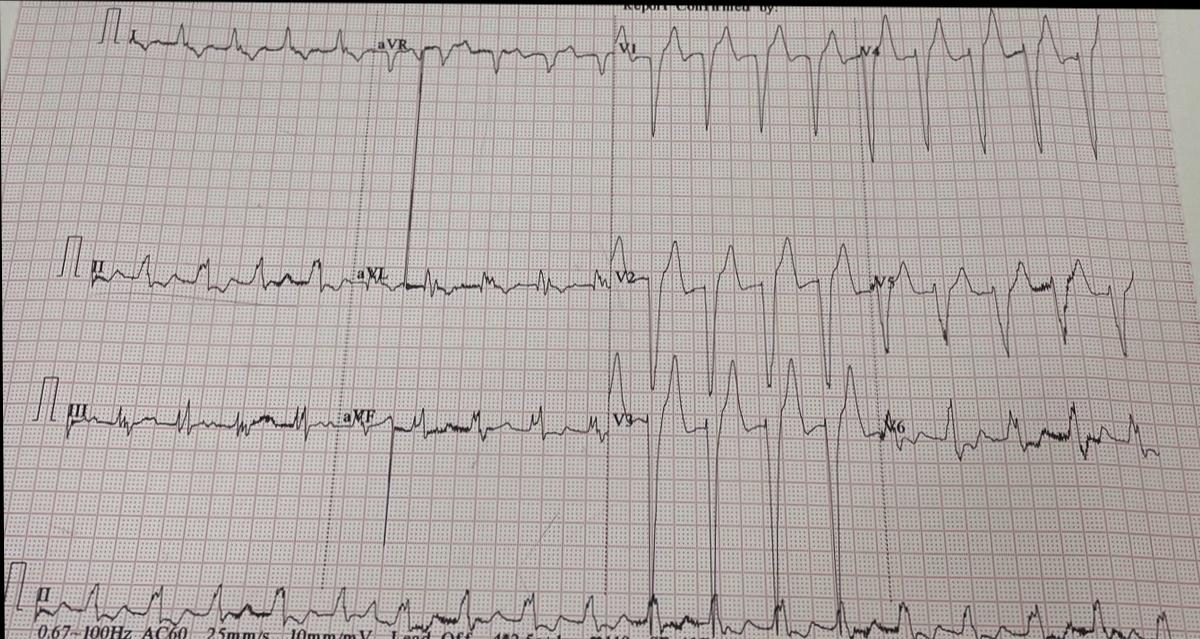Lead_I: (126, 10, 376, 101)
Lead_II: (79, 237, 359, 326)
Lead_III: (64, 382, 340, 470)
Lead_II_ext: (25, 549, 1200, 639)
Lead_V1: (612, 6, 863, 156)
Lead_V2: (606, 222, 874, 398)
Lead_V3: (607, 340, 886, 639)
Lead_V4: (862, 7, 1122, 187)
Lead_V5: (871, 243, 1146, 375)
Lead_V6: (881, 392, 1168, 482)
Lead_aVF: (340, 390, 612, 556)
Lead_aVL: (347, 47, 612, 307)
Lead_aVR: (375, 17, 608, 320)
